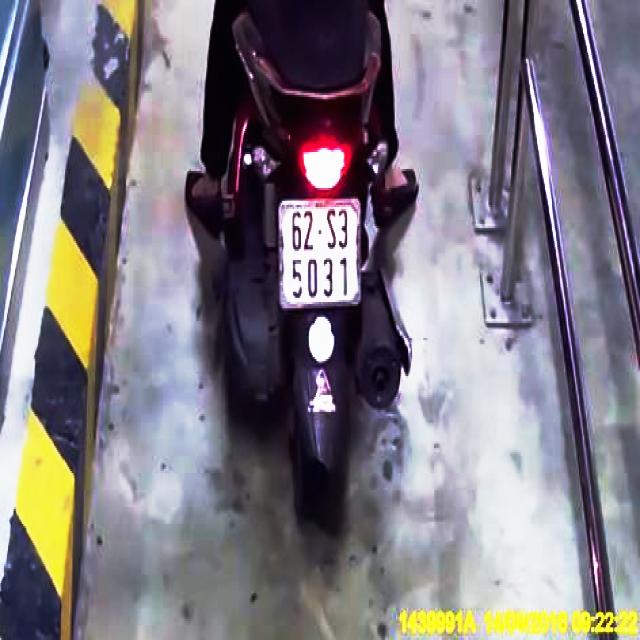license_plate: (280, 200, 363, 307)
